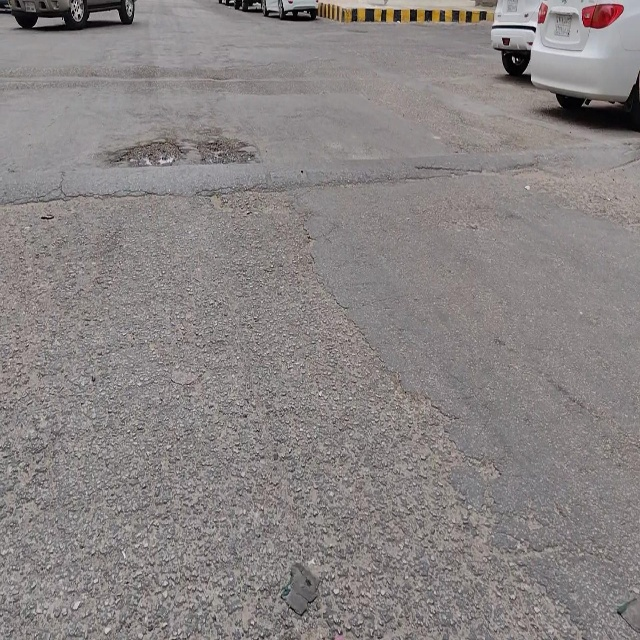pothole: (116, 138, 181, 167), (200, 139, 253, 166)
